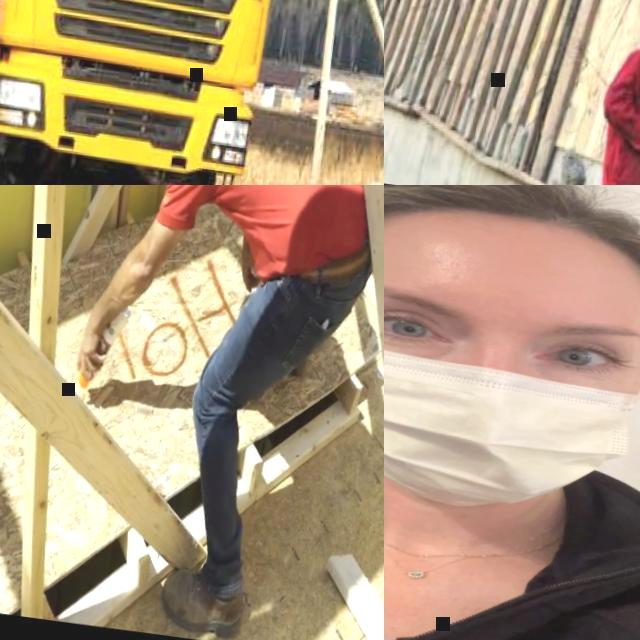machinery: (0, 0, 353, 185)
mask: (384, 310, 640, 530)
no_helmet: (384, 185, 640, 307)
no_vest: (384, 444, 640, 640), (185, 185, 384, 289), (595, 49, 640, 185)
person: (41, 185, 384, 640), (384, 185, 640, 640), (588, 0, 640, 185)
